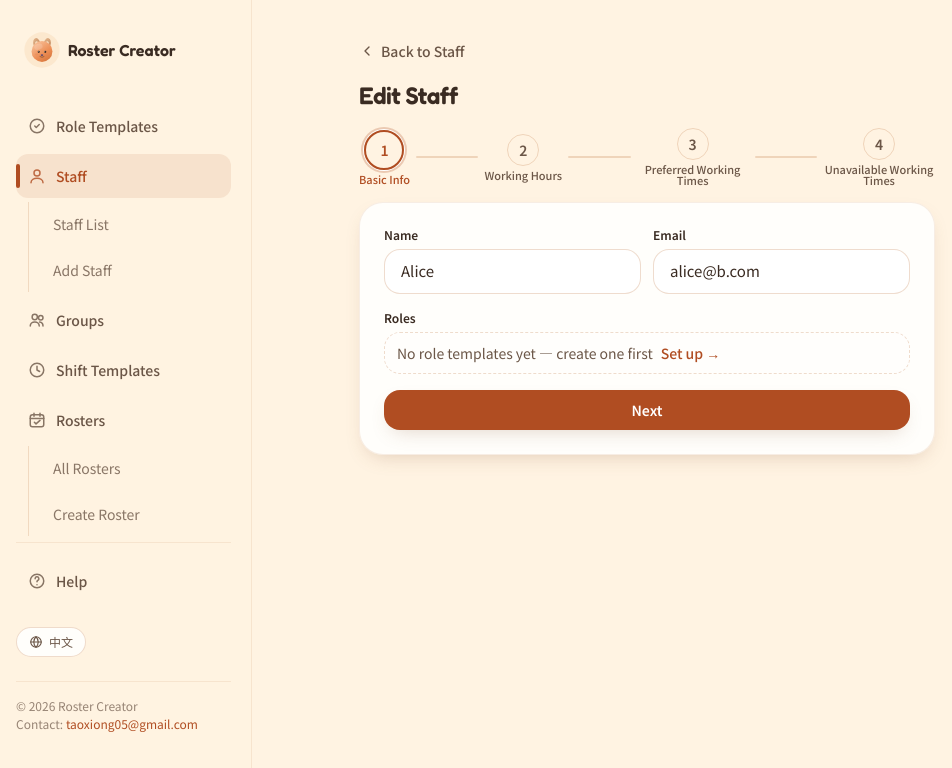
Test case: StaffEditPage › blocks jumping away from Basic Info with an empty name
Clear the field labelled "Name" at (512, 271), box x1=384 y1=249 x2=641 y2=294
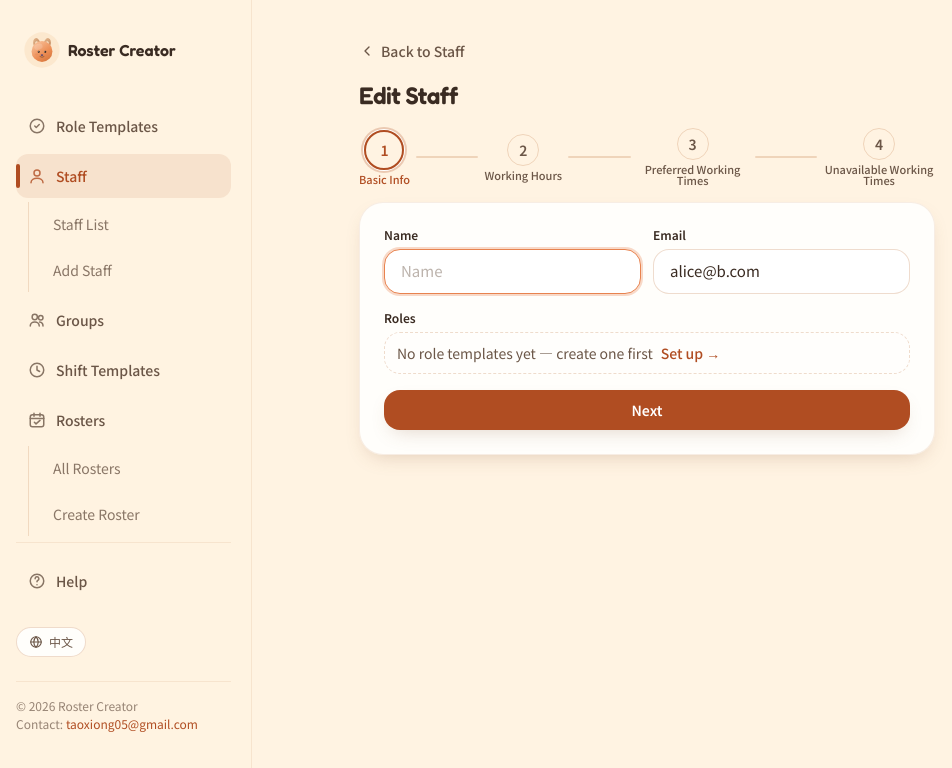
Click the button named "Working Hours" at (523, 150), box x1=507 y1=134 x2=539 y2=166
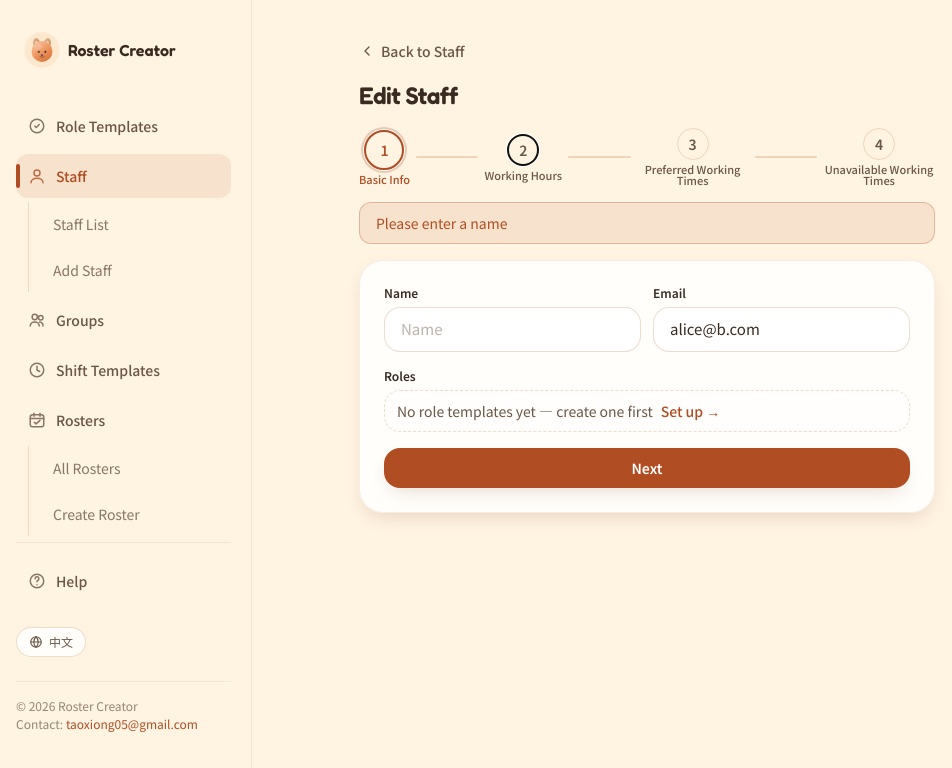
expect the message reads "Please enter a name": met, box x1=376 y1=213 x2=508 y2=233
